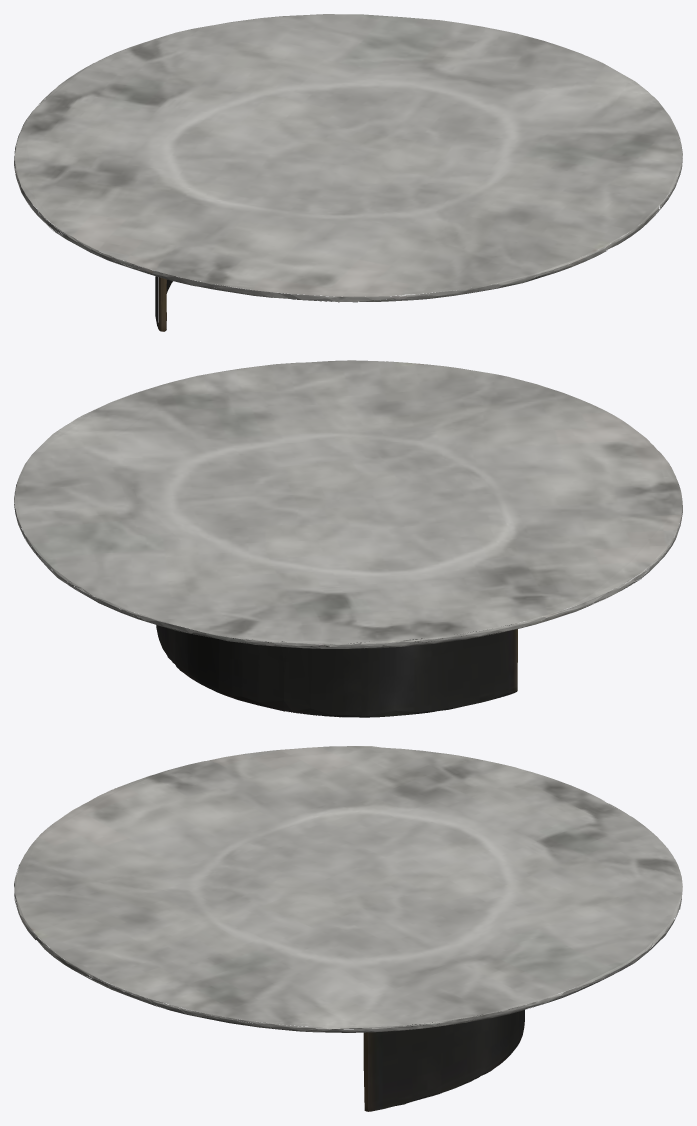
Rendered from m-table-ronde.glb.
3 views of the same model, one above another, from view 1: azimuth 30°, elevation 25°; view 2: azimuth 150°, elevation 25°; view 3: azimuth 270°, elevation 25° (orthographic).
Visible parts, largest first — view 1: geometry_0; view 2: geometry_0; view 3: geometry_0.
Boxes of the visible parts, bbox=[...] form: geometry_0: bbox=[14, 14, 682, 331]; geometry_0: bbox=[14, 360, 682, 717]; geometry_0: bbox=[14, 746, 682, 1111].
Size of the model in its own units: 0.9986 by 0.2321 by 0.9994.
Materials: 1 (1 with a texture image).
